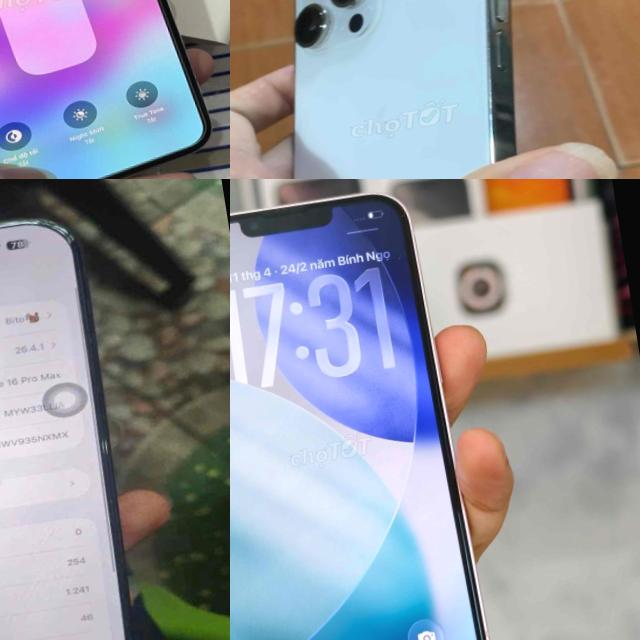gen_11: (0, 0, 228, 179)
gen_12_13: (230, 179, 502, 640)
gen_14: (234, 0, 589, 179)
gen_16: (0, 221, 133, 640)
